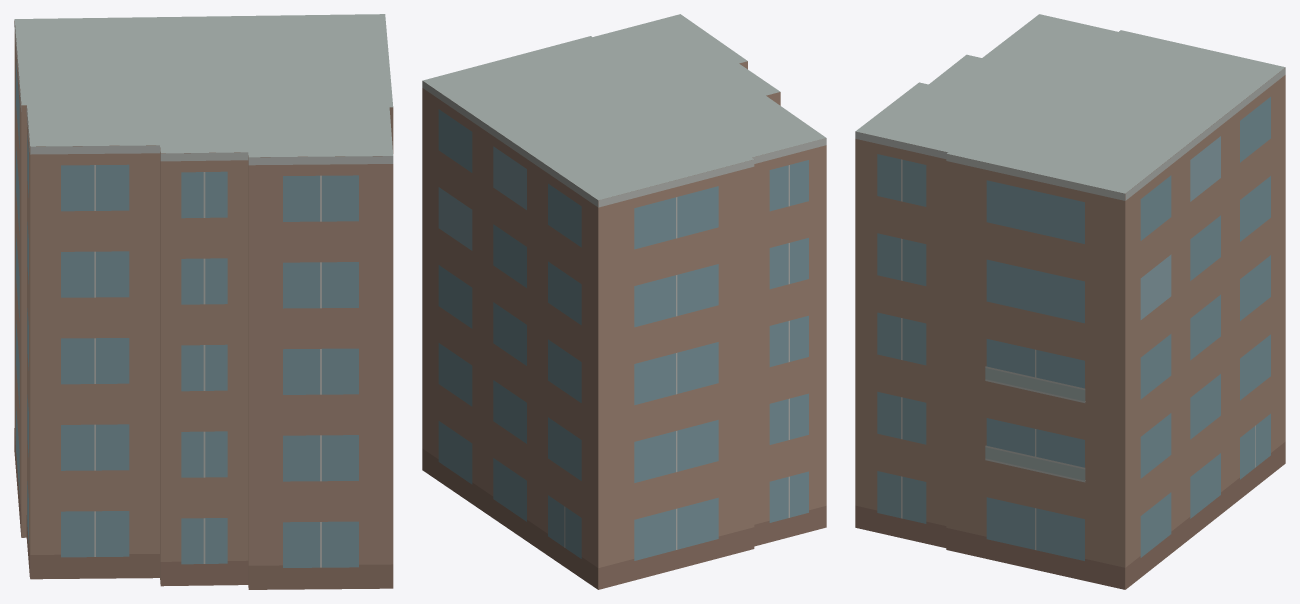
File: survey-upis-32886863.glb
3 views of the same model, side by side, from view 1: azimuth 30°, elevation 25°; view 2: azimuth 150°, elevation 25°; view 3: azimuth 270°, elevation 25° (orthographic). The views are drawn at different scales.
Visible parts, largest first — view 1: survey-upis-32886863.tmp; view 2: survey-upis-32886863.tmp; view 3: survey-upis-32886863.tmp.
Part boxes in pixels (left/top/right/bottom): survey-upis-32886863.tmp: left=14, top=14, right=393, bottom=589; survey-upis-32886863.tmp: left=422, top=14, right=826, bottom=589; survey-upis-32886863.tmp: left=855, top=14, right=1285, bottom=589.
Size of the model in its own units: 12.85 by 13.2 by 13.
